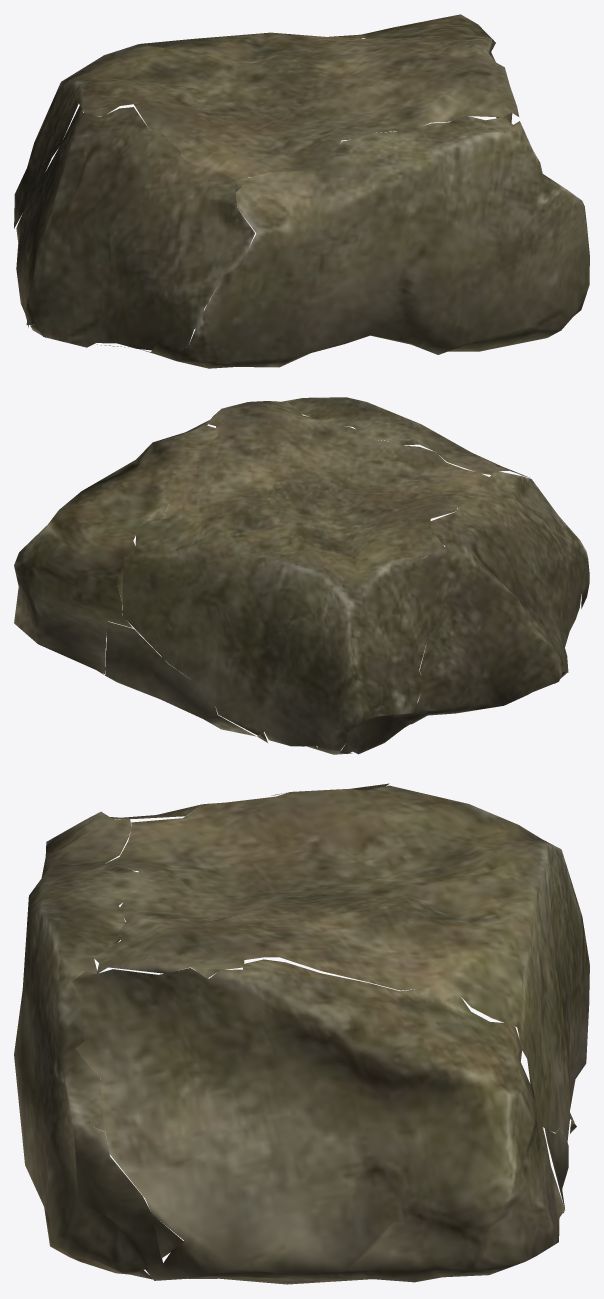
Rendered from rock_a.glb.
3 renders of one model, top to bottom at view 1: azimuth 30°, elevation 25°; view 2: azimuth 150°, elevation 25°; view 3: azimuth 270°, elevation 25°, orthographic. The views are drawn at different scales.
Visible parts, largest first — view 1: rock_a; view 2: rock_a; view 3: rock_a.
Boxes of the visible parts, <box> form: rock_a: <box>14,14,589,368</box>; rock_a: <box>14,397,589,754</box>; rock_a: <box>14,783,589,1284</box>.
Size of the model in its own units: 1.67 by 0.7366 by 1.2.
1 material, 1 textured.
